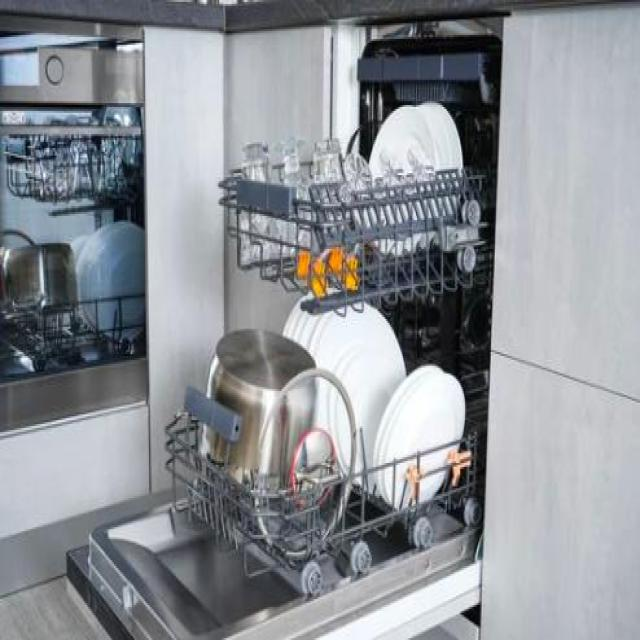dishwasher: (65, 39, 499, 638)
